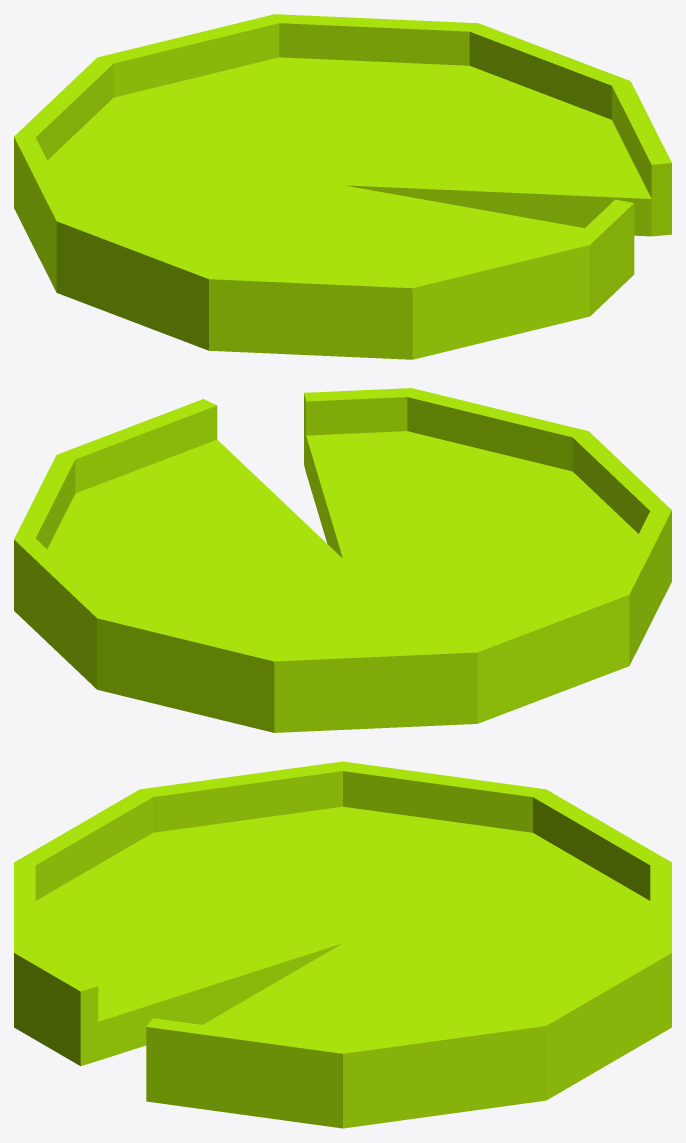
The model's file is Leaf_Lotus.fbx.
3 views of the same model, one above another, from view 1: azimuth 30°, elevation 25°; view 2: azimuth 150°, elevation 25°; view 3: azimuth 270°, elevation 25° (orthographic). The views are drawn at different scales.
Visible parts, largest first — view 1: Leaf_Lotos; view 2: Leaf_Lotos; view 3: Leaf_Lotos.
Part boxes in pixels (left/top/right/bottom): Leaf_Lotos: left=14, top=14, right=671, bottom=359; Leaf_Lotos: left=14, top=388, right=671, bottom=732; Leaf_Lotos: left=14, top=761, right=671, bottom=1128.
Bounding box in the file's own units: 6.42 × 0.765 × 6.11.
